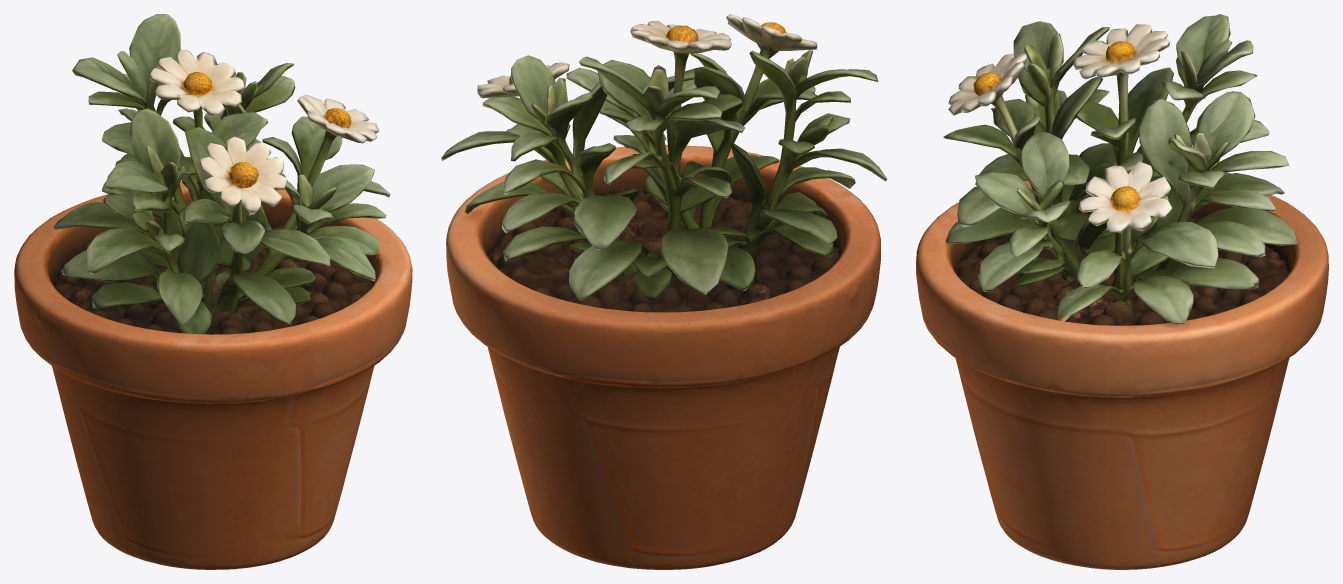
Rendered from tripo_convert_da4deb60-f828-4e18-88f1-b47b4033c06e.fbx.
The picture shows the model from 3 angles, left to right: view 1: azimuth 30°, elevation 25°; view 2: azimuth 150°, elevation 25°; view 3: azimuth 270°, elevation 25°; orthographic projection. The views are drawn at different scales.
Visible parts, largest first — view 1: tripo_node_da4deb60; view 2: tripo_node_da4deb60; view 3: tripo_node_da4deb60.
Part boxes in pixels (x1,y1,x2,y2): tripo_node_da4deb60: (14, 14, 412, 569); tripo_node_da4deb60: (441, 14, 887, 569); tripo_node_da4deb60: (916, 14, 1328, 569).
Size of the model in its own units: 0.7702 by 0.9788 by 0.7662.
1 material, 1 textured.
